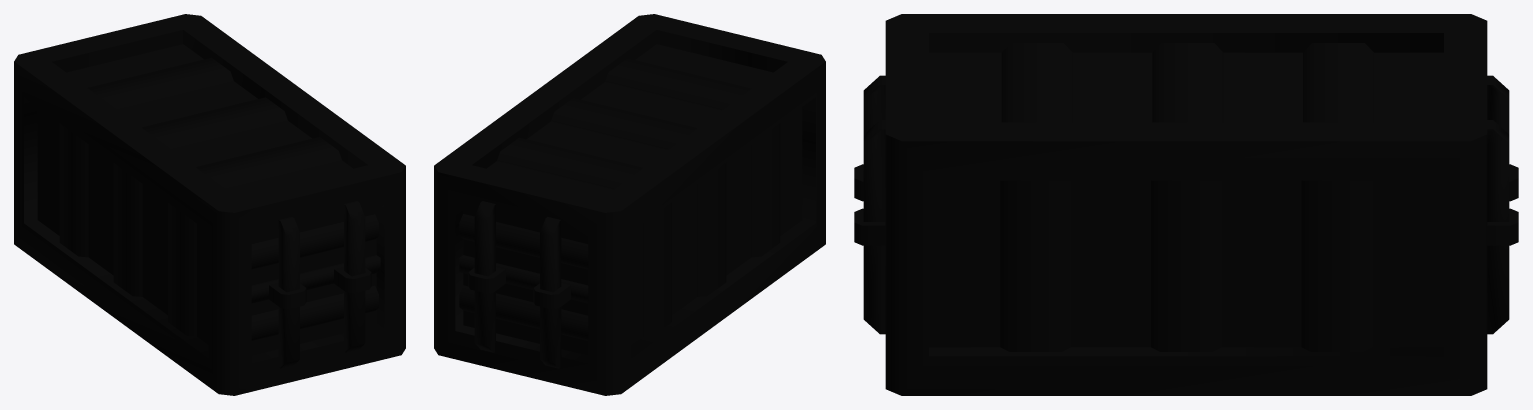
Rendered from shipping-container-b.glb.
3 renders of one model, left to right at view 1: azimuth 30°, elevation 25°; view 2: azimuth 150°, elevation 25°; view 3: azimuth 270°, elevation 25°, orthographic. The views are drawn at different scales.
Visible parts, largest first — view 1: shipping-container-b; view 2: shipping-container-b; view 3: shipping-container-b.
Boxes of the visible parts, left/top/right/bottom form: shipping-container-b: left=14, top=14, right=405, bottom=395; shipping-container-b: left=434, top=14, right=825, bottom=395; shipping-container-b: left=854, top=14, right=1518, bottom=395.
Bounding box in the file's own units: 0.3726 × 0.3481 × 0.8226.
1 material, 1 textured.
